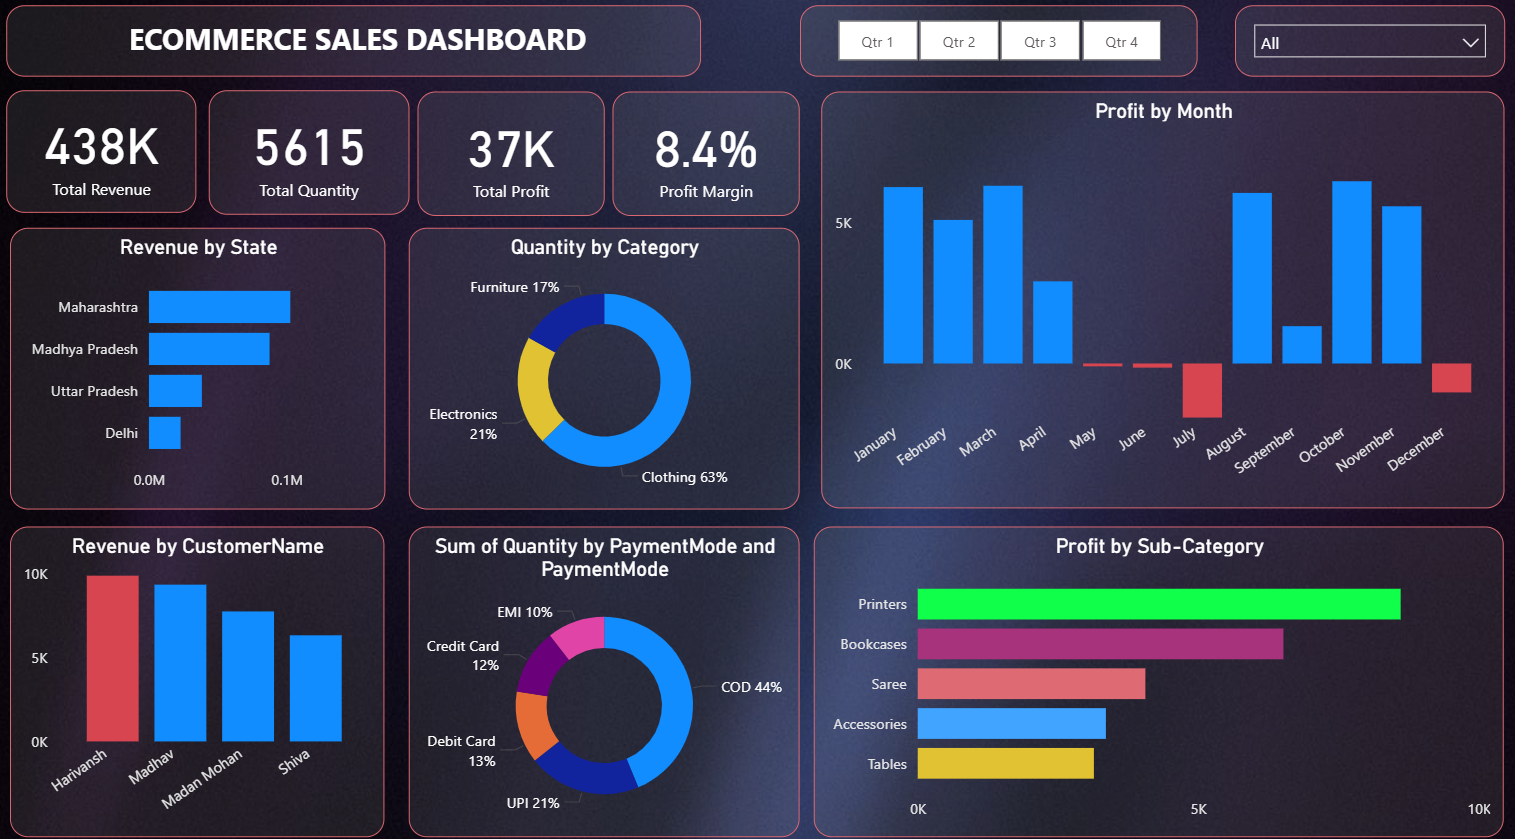

The page's visual inventory and layout, read from the dashboard file:
{"tool":"powerbi","page":{"name":"Page 1","canvas":[1280,720],"ordinal":0},"visuals":[{"type":"textbox","box":[9.6,9.6,576.3,59],"z":0},{"type":"columnChart","title":"Profit by Month","fields":{"Y":["Details.Profit"],"Category":["Orders.Order Date.Variation.Date Hierarchy.Month"]},"box":[684.7,81,566.7,345.8],"z":1000},{"type":"barChart","title":"Profit by Sub-Category","fields":{"Category":["Details.Sub-Category"],"Y":["Details.Profit"]},"box":[679.2,441.9,572.2,258],"z":2000},{"type":"donutChart","title":"Quantity by Category","fields":{"Category":["Details.Category"],"Y":["Details.Quantity"]},"box":[343.1,193.5,323.8,233.3],"z":3000},{"type":"donutChart","fields":{"Category":["Details.PaymentMode"],"Y":["Details.Quantity"],"Series":["Details.PaymentMode"]},"box":[343.1,441.9,323.8,258],"z":4000},{"type":"card","fields":{"Values":["Details.Total Revenue"]},"box":[9.6,79.6,157.8,101.5],"z":5000},{"type":"card","fields":{"Values":["Details.Total Quantity"]},"box":[177,79.6,166,102.9],"z":6000},{"type":"card","fields":{"Values":["Details.Total Profit"]},"box":[349.9,81,155.1,102.9],"z":7000},{"type":"card","fields":{"Values":["Details.Profit Margin"]},"box":[511.8,81,155.1,102.9],"z":8000},{"type":"barChart","title":"Revenue by State","fields":{"Y":["Details.Amount"],"Category":["Orders.State"]},"box":[12.3,193.5,311.5,233.3],"z":9000},{"type":"columnChart","title":"Revenue by CustomerName","fields":{"Category":["Orders.CustomerName"],"Y":["Details.Amount"]},"box":[12.3,441.9,310.1,258],"z":10000},{"type":"slicer","fields":{"Values":["Orders.Order Date.Variation.Date Hierarchy.Quarter"]},"box":[666.9,9.6,329.3,59],"z":11000},{"type":"slicer","fields":{"Values":["Orders.State"]},"box":[1027.8,9.6,223.7,59],"z":12000}]}

Visuals, with their boxes in screenshot pixels (x1, y1, x2, y2), scaled from the page's 1280x720 canvas onto the 1515x839 screenshot:
textbox: 11, 11, 693, 80
"Profit by Month" columnChart: 810, 94, 1481, 497
"Profit by Sub-Category" barChart: 804, 515, 1481, 816
"Quantity by Category" donutChart: 406, 225, 789, 497
donutChart - Details.PaymentMode x Details.Quantity: 406, 515, 789, 816
card - Details.Total Revenue: 11, 93, 198, 211
card - Details.Total Quantity: 209, 93, 406, 213
card - Details.Total Profit: 414, 94, 598, 214
card - Details.Profit Margin: 606, 94, 789, 214
"Revenue by State" barChart: 15, 225, 383, 497
"Revenue by CustomerName" columnChart: 15, 515, 382, 816
slicer - Orders.Order Date.Variation.Date Hierarchy.Quarter: 789, 11, 1179, 80
slicer - Orders.State: 1216, 11, 1481, 80
